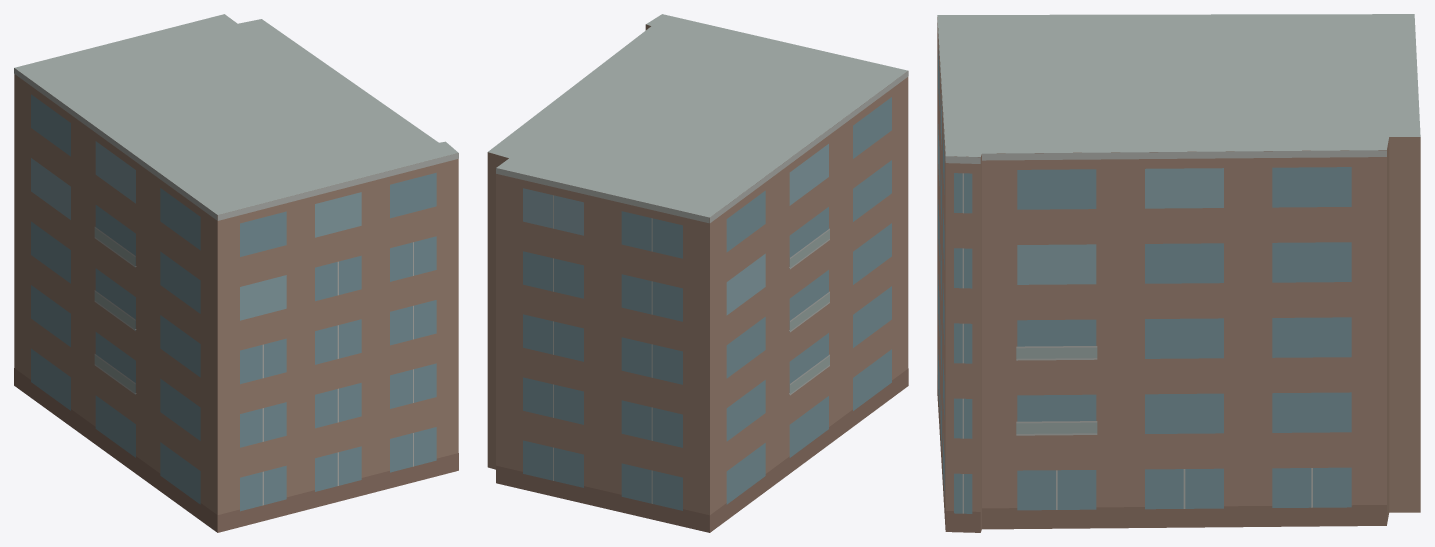
The model's file is survey-upis-32606559.glb.
3 views of the same model, side by side, from view 1: azimuth 30°, elevation 25°; view 2: azimuth 150°, elevation 25°; view 3: azimuth 270°, elevation 25° (orthographic). The views are drawn at different scales.
Parts seen in each view (by area): view 1: survey-upis-32606559.tmp; view 2: survey-upis-32606559.tmp; view 3: survey-upis-32606559.tmp.
Boxes of the visible parts, x1,y1,x2,y2 form: survey-upis-32606559.tmp: [14, 14, 458, 532]; survey-upis-32606559.tmp: [487, 14, 908, 532]; survey-upis-32606559.tmp: [937, 14, 1420, 532].
Size of the model in its own units: 10.8 by 13.2 by 15.4.
